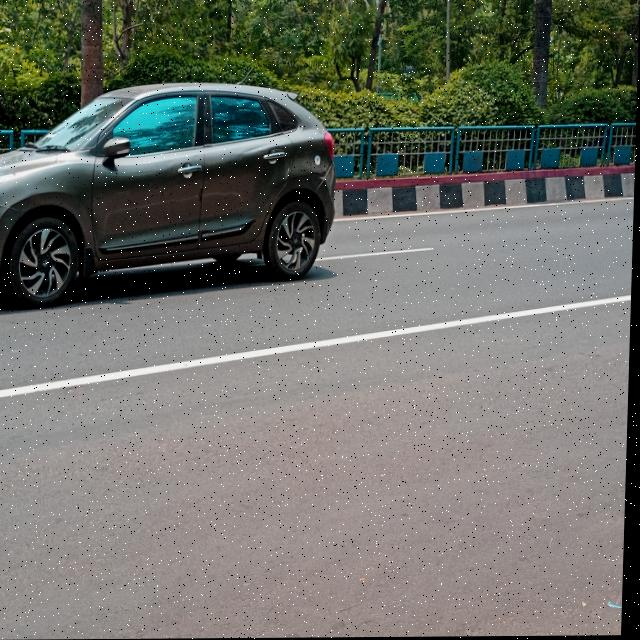car: (0, 71, 353, 294)
